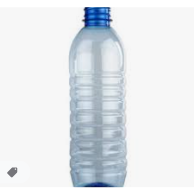Bottle: (68, 7, 130, 187)
